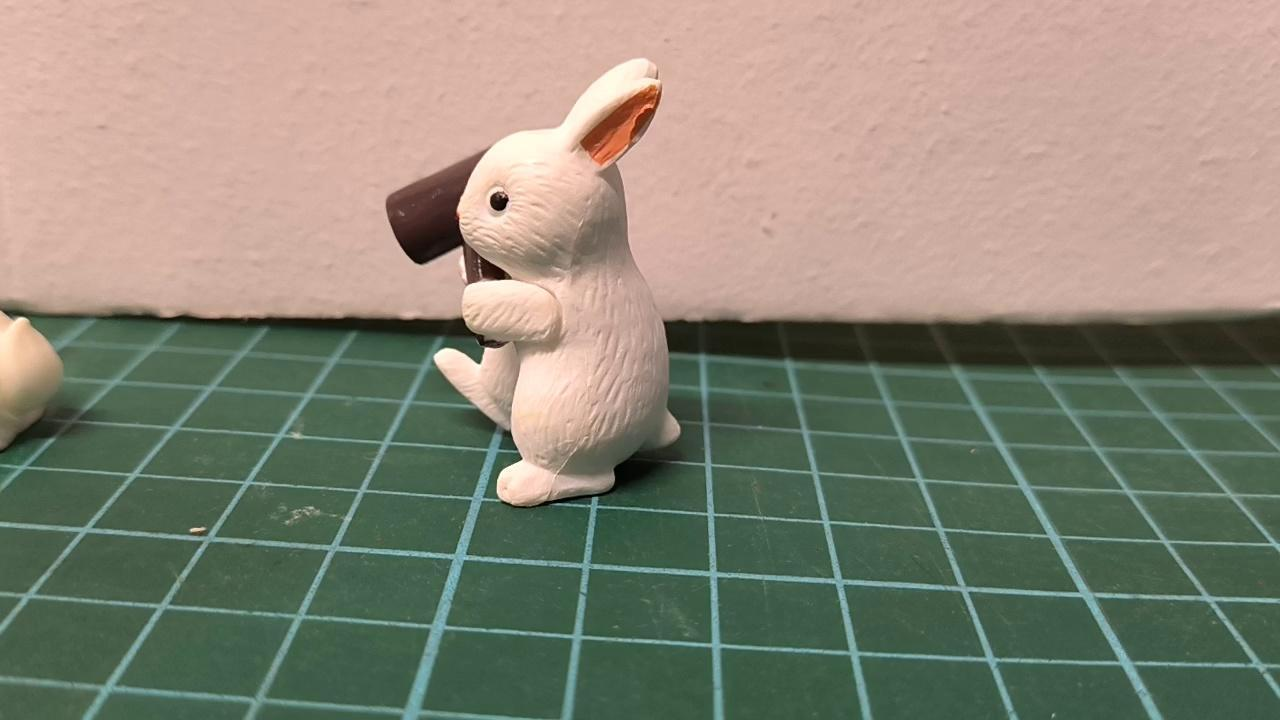pet: (431, 55, 684, 506)
